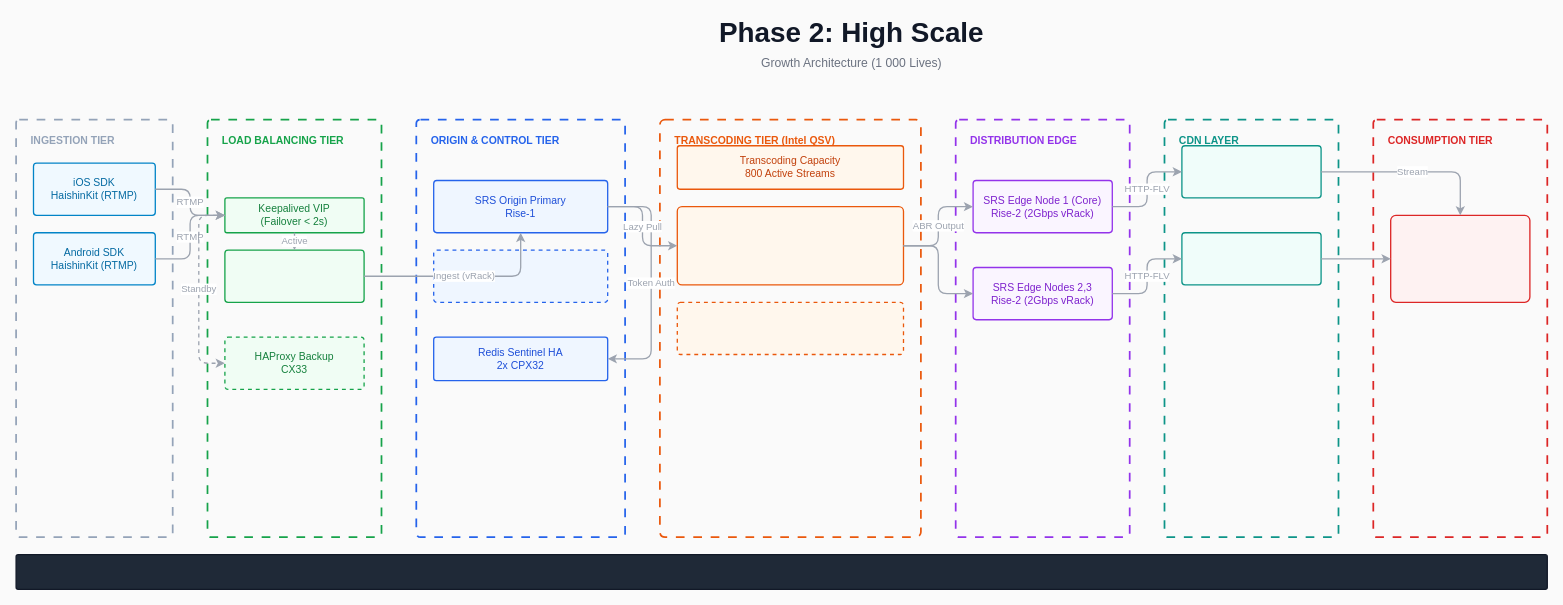
Some shapes in this 1563 by 605 pixel diagram are drawn without their labels. Here are the shapes that lost their labels. From the top down, the centre of each, then its label:
point 1251,171: Bunny CDN Premium
point 790,245: 50+ EX44 Cluster Horizontally Scaled
point 1251,258: Gcore CDN Default
point 1460,258: Full User Base Scale CDN Delivery
point 294,276: HAProxy Master CX33
point 520,276: SRS Origin Standby Rise-1 (Keepalived)
point 790,328: 5x EX44 Hot Standby Pool
point 781,572: OBSERVABILITY HA: AX41 NVMe + Slack Webhooks + Scaling Advisor Rules
